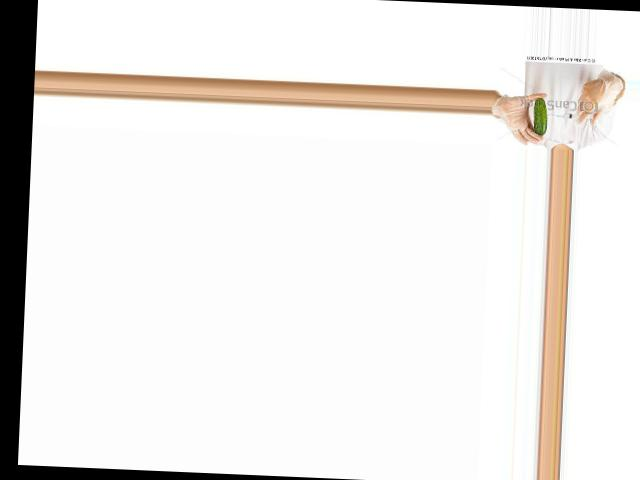cucumber: (532, 96, 547, 135)
